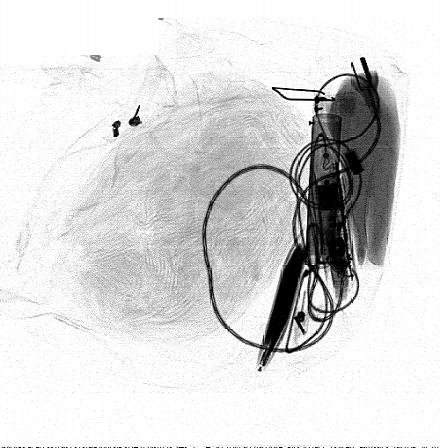Powerbank: (256, 223, 306, 372)
